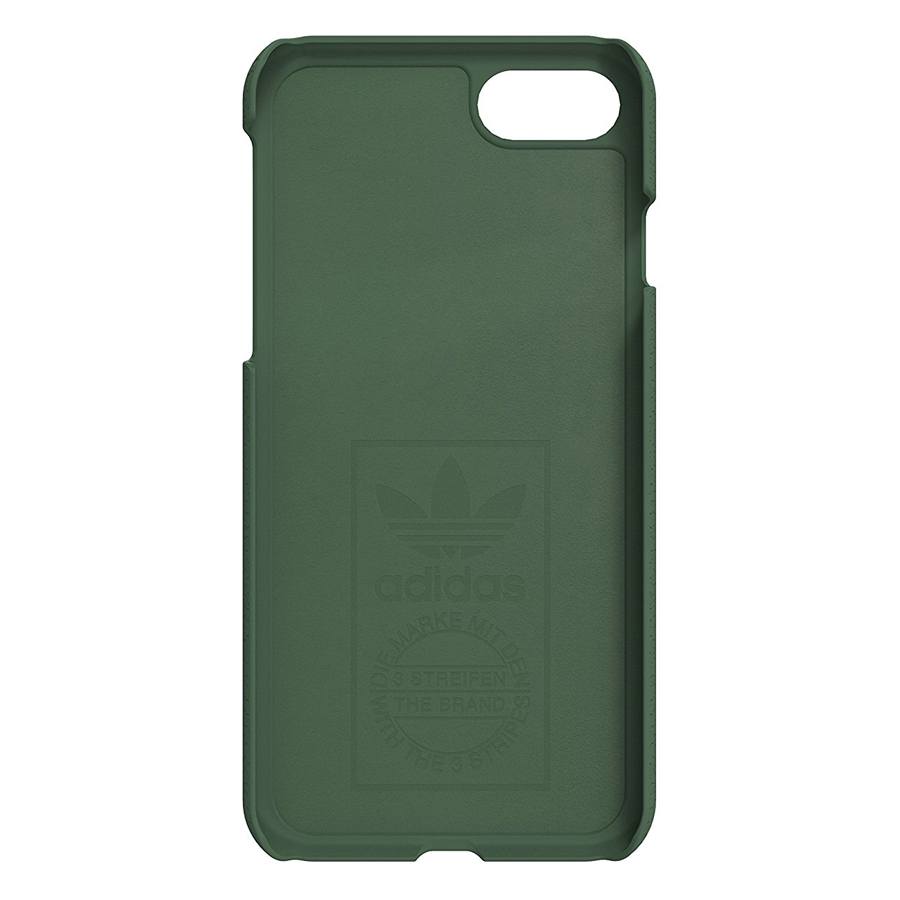Adidas: (367, 450, 538, 610)
